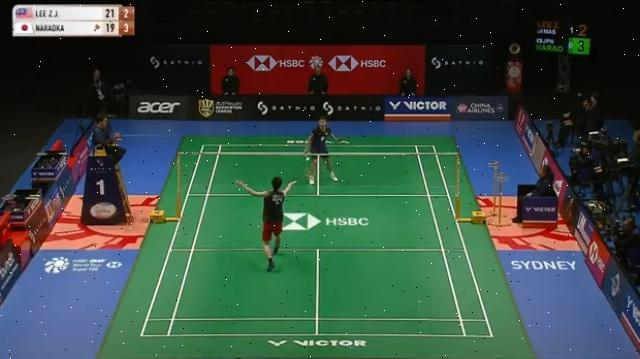Shuttlecock: (304, 154, 312, 163)
